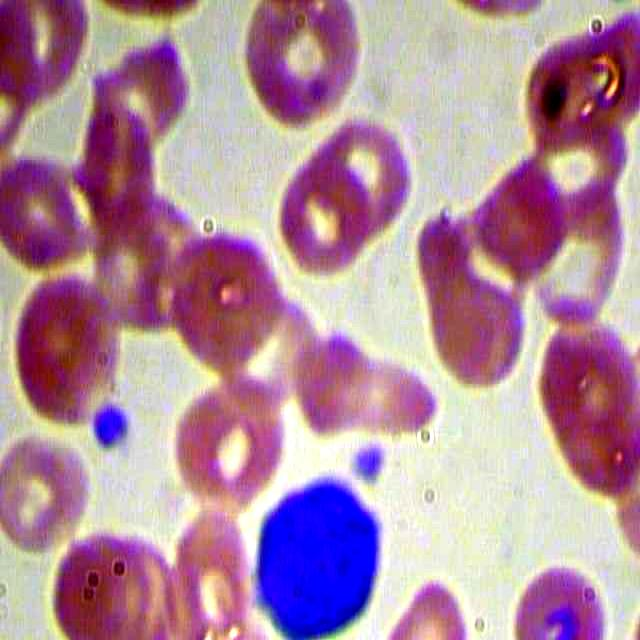Platelets: (83, 398, 140, 453), (349, 436, 391, 487)
RBC: (161, 377, 287, 511), (270, 157, 372, 280), (314, 116, 416, 239)
WBC: (245, 469, 383, 640)
